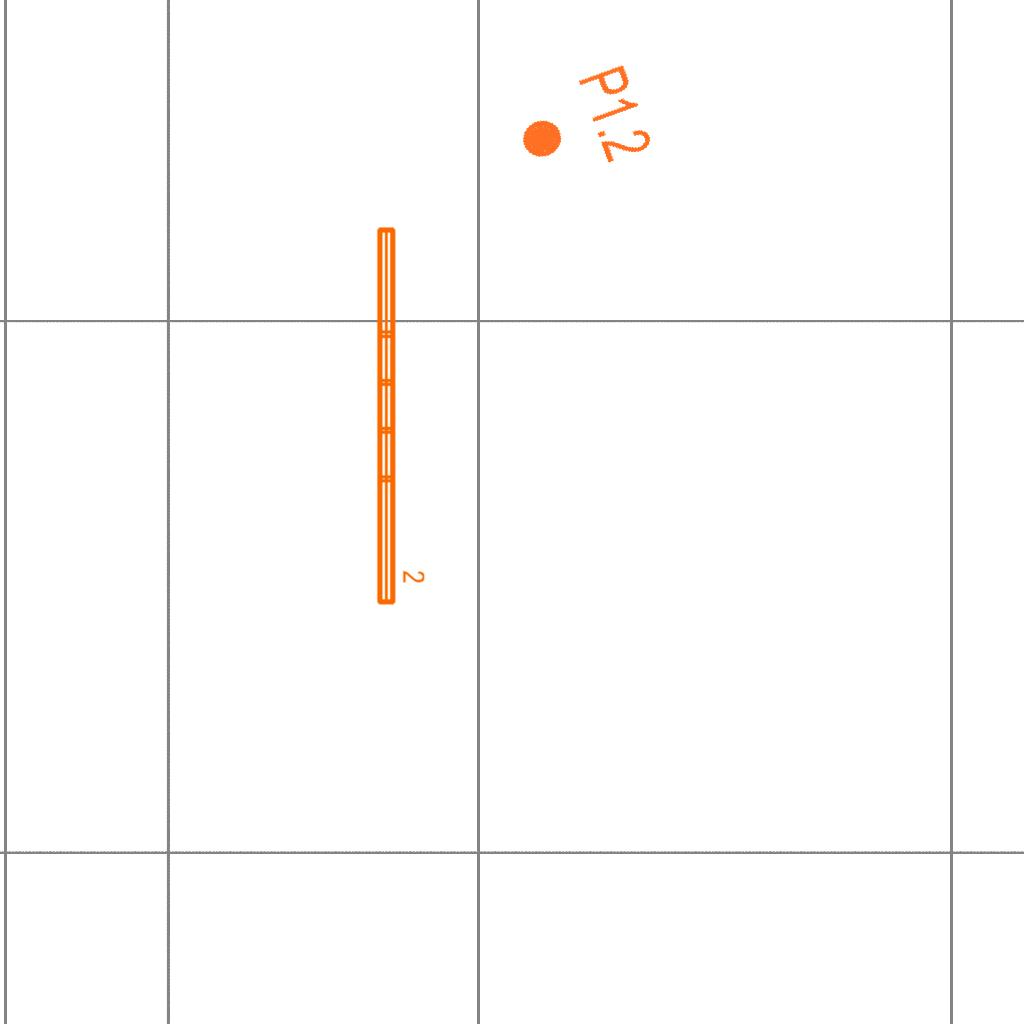Ambulanz_Pendelleuchte_LED: (371, 222, 427, 609)
Downlight_LED_Einbauleuchten_Flur: (505, 60, 658, 192)
